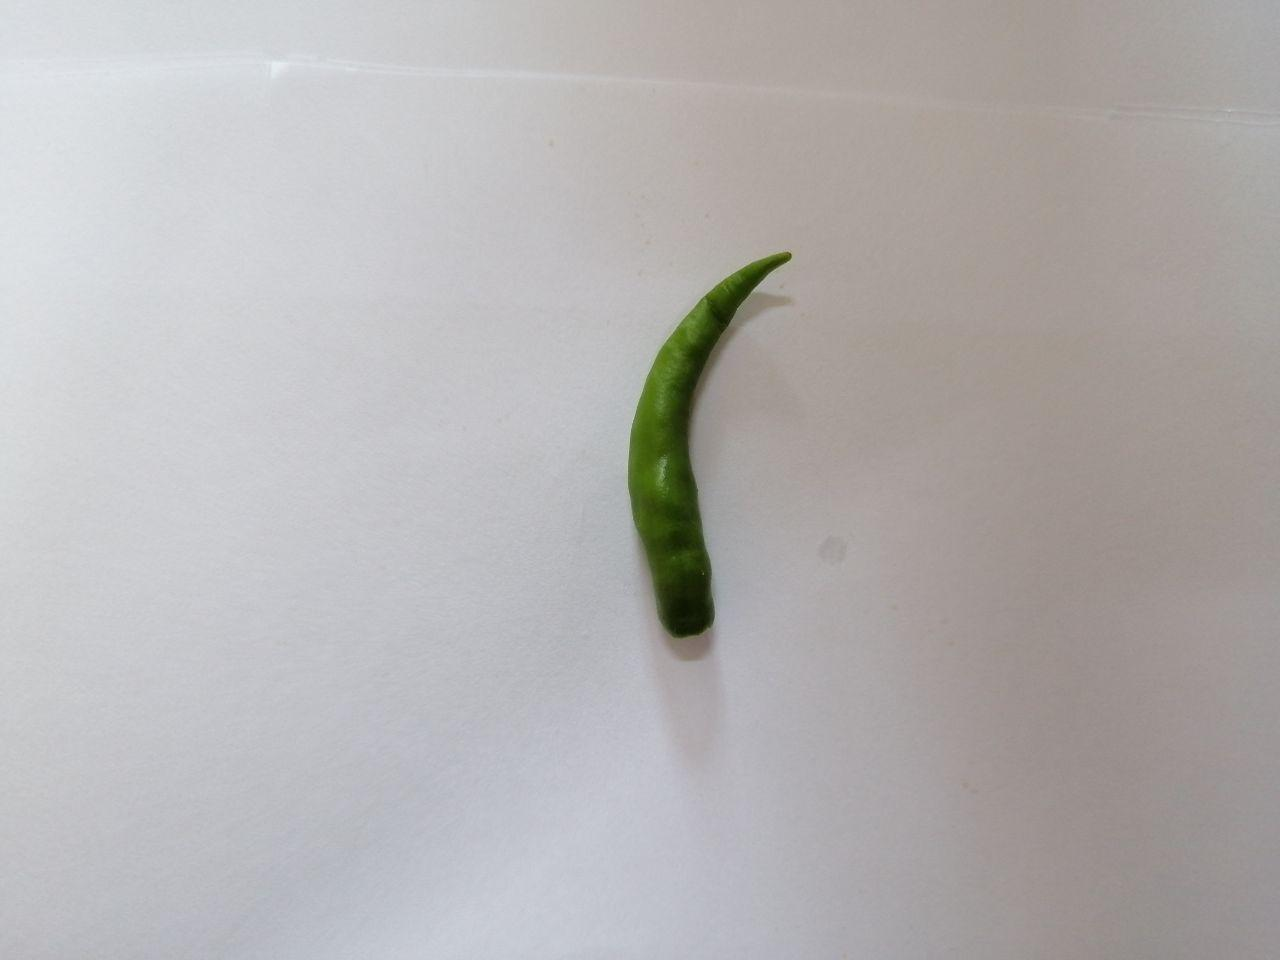lada hijau: (606, 233, 822, 661)
